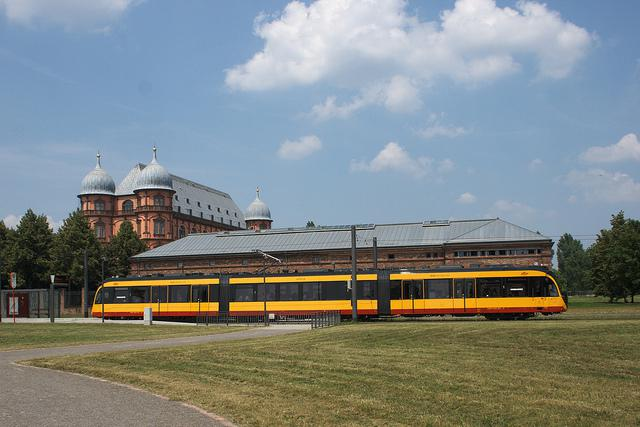Train: (91, 269, 568, 319)
